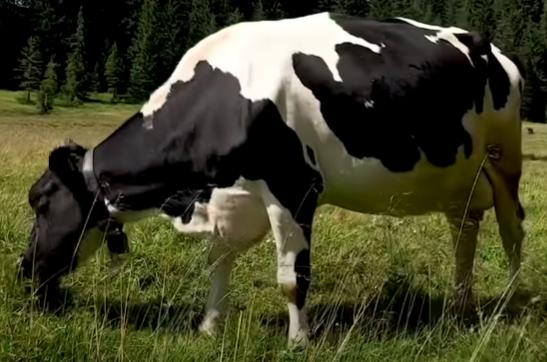cow: (19, 10, 527, 353)
